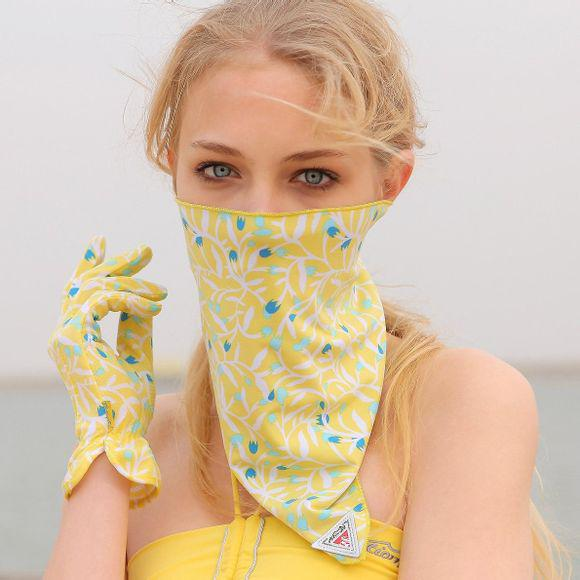OK: (177, 109, 376, 314)
